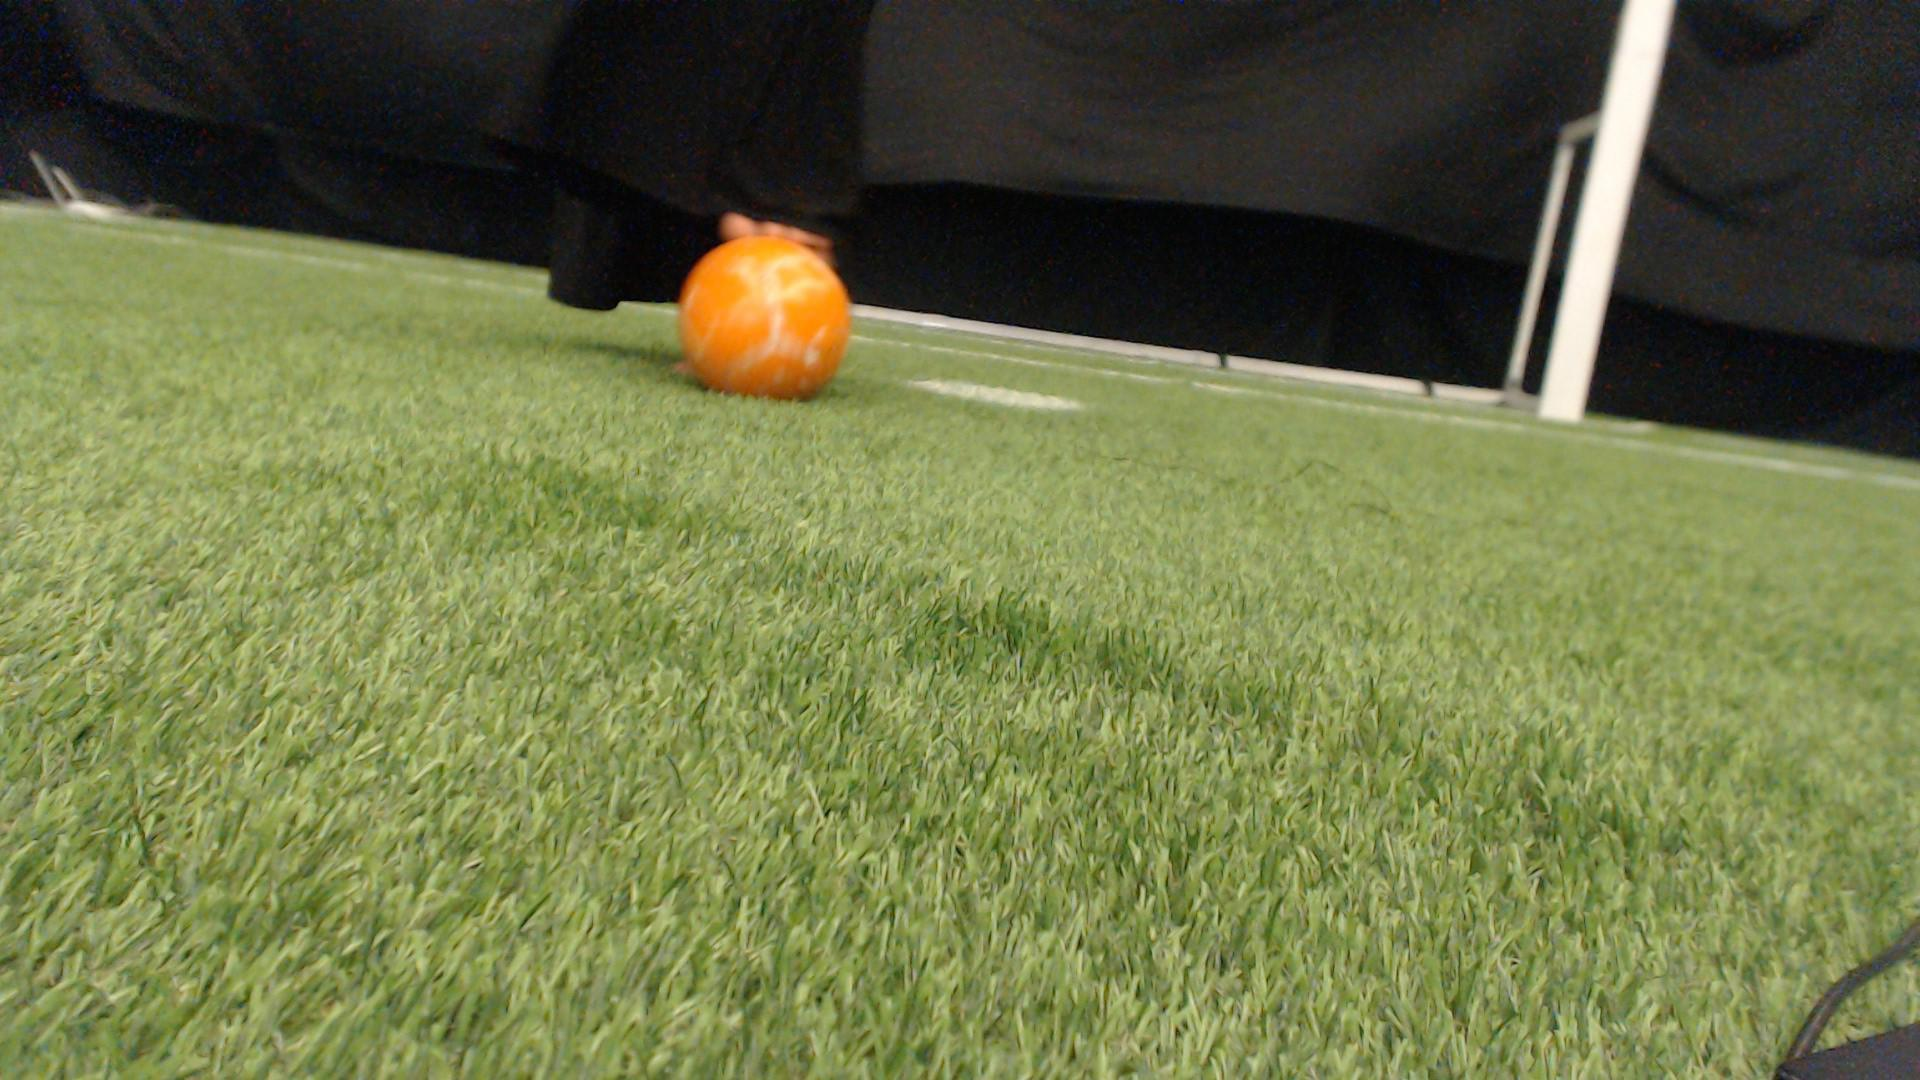bola: (655, 222, 894, 426)
